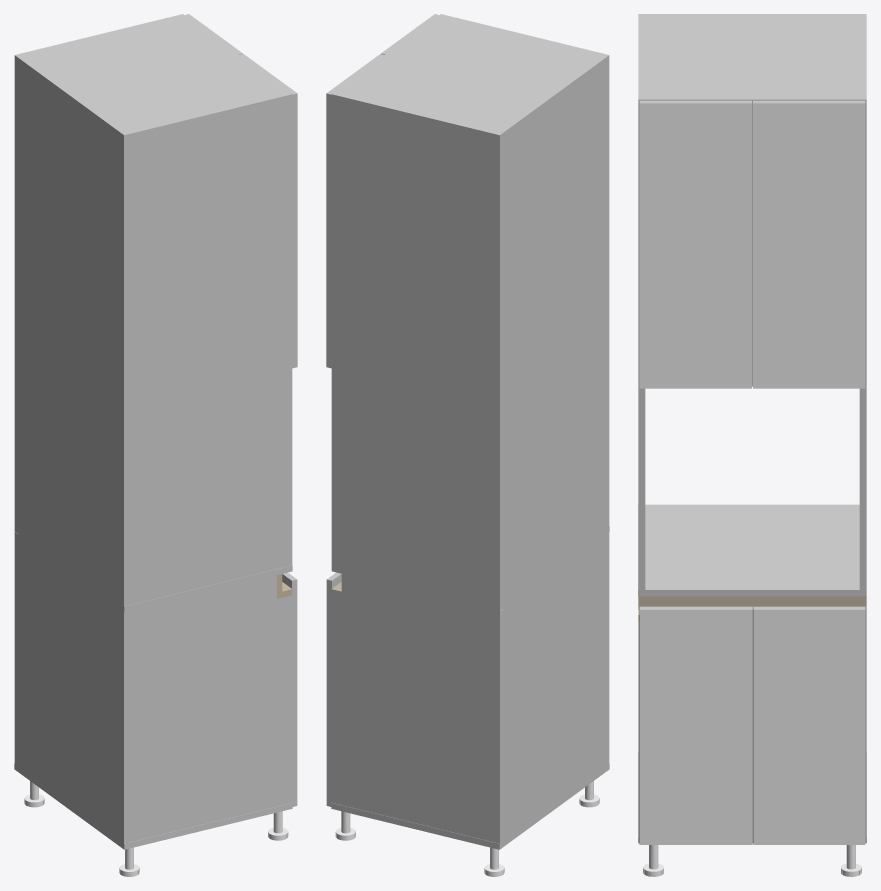
The model's file is stub_rernu_60cm_2.glb.
3 renders of one model, left to right at view 1: azimuth 30°, elevation 25°; view 2: azimuth 150°, elevation 25°; view 3: azimuth 270°, elevation 25°, orthographic. The views are drawn at different scales.
Visible parts, largest first — view 1: Group1, Group2; view 2: Group1, Group2; view 3: Group1, Group2.
Boxes of the visible parts, x1,y1,x2,y2 form: Group1: (14,14,297,849); Group2: (24,781,288,876); Group1: (326,14,609,849); Group2: (335,781,599,876); Group1: (638,14,866,844); Group2: (643,845,861,876).
Bounding box in the file's own units: 550 × 2253 × 602.
